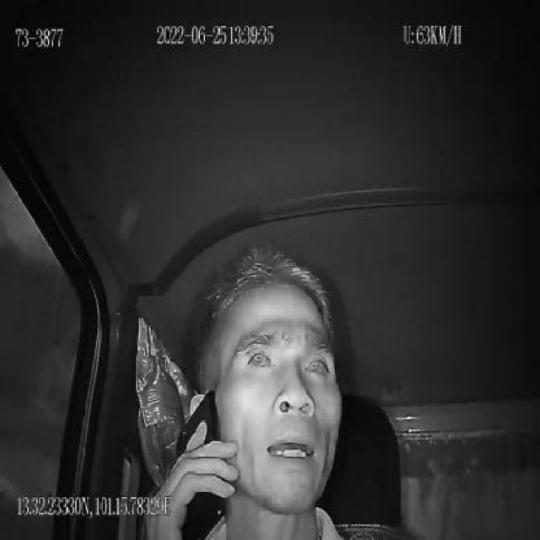phone: (176, 384, 231, 540)
